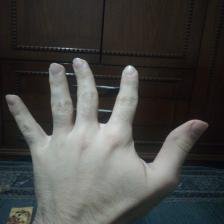five: (4, 52, 219, 218)
